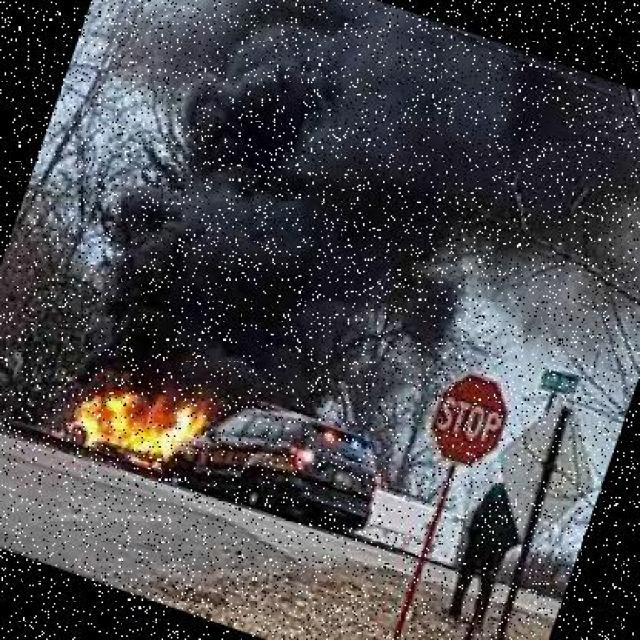fire: (38, 338, 235, 517)
